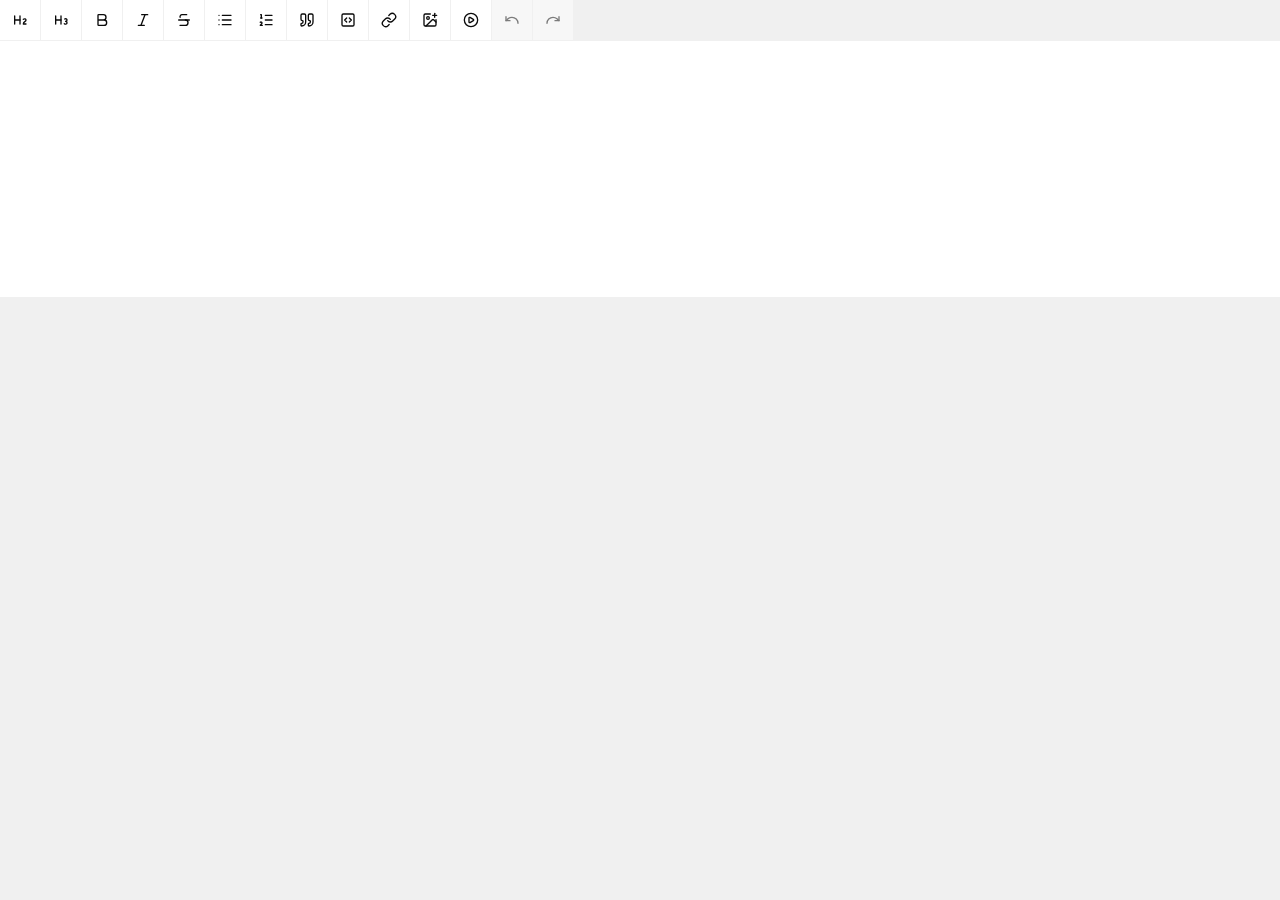
Test: RichEditor › 링크 다이얼로그는 http 가 아닌 주소를 거부한다
Click the button named "링크" at (389, 20), box [369, 0, 409, 40]
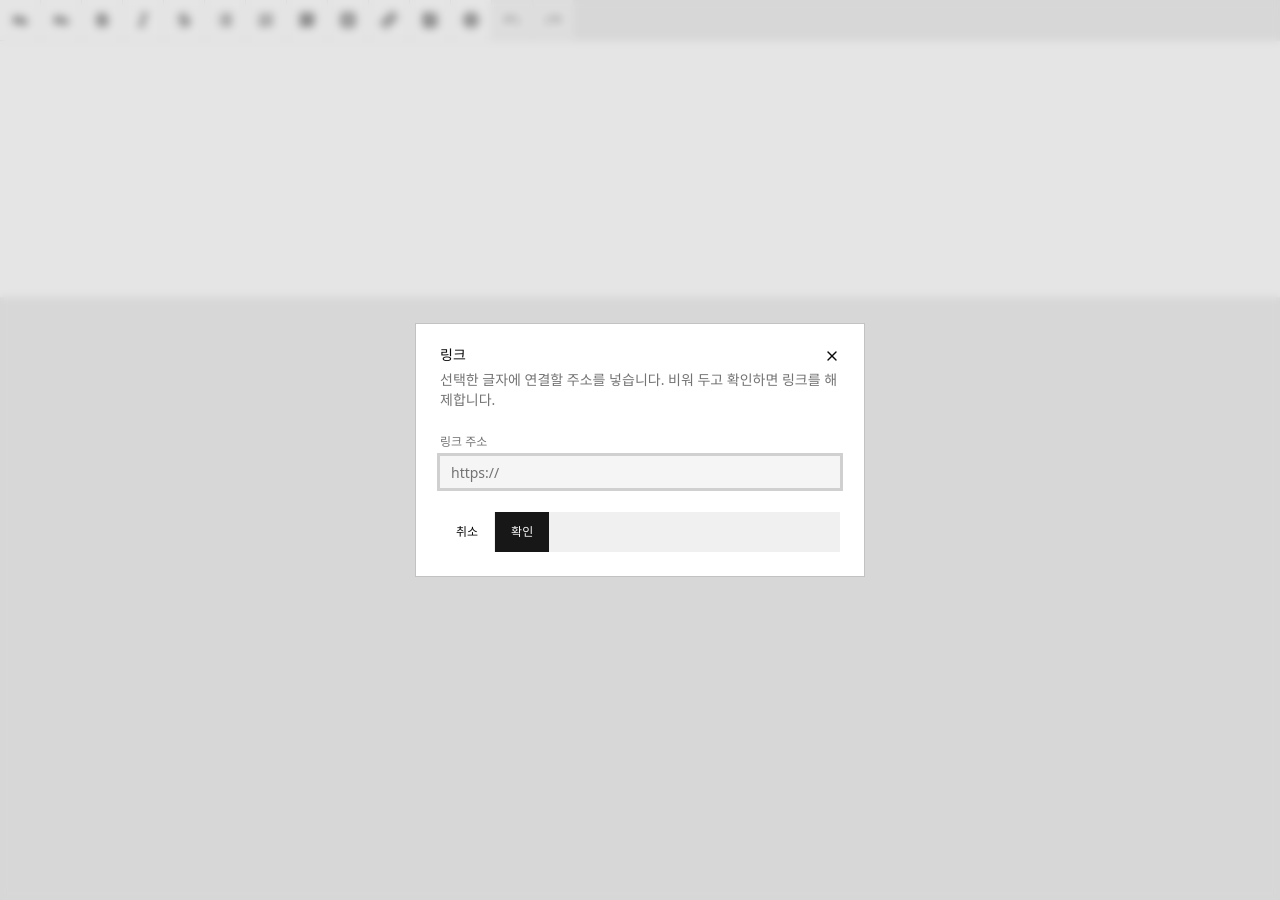
Type "javascript:alert(1)" into the field labelled "링크 주소" at (640, 472), box [440, 456, 840, 488]
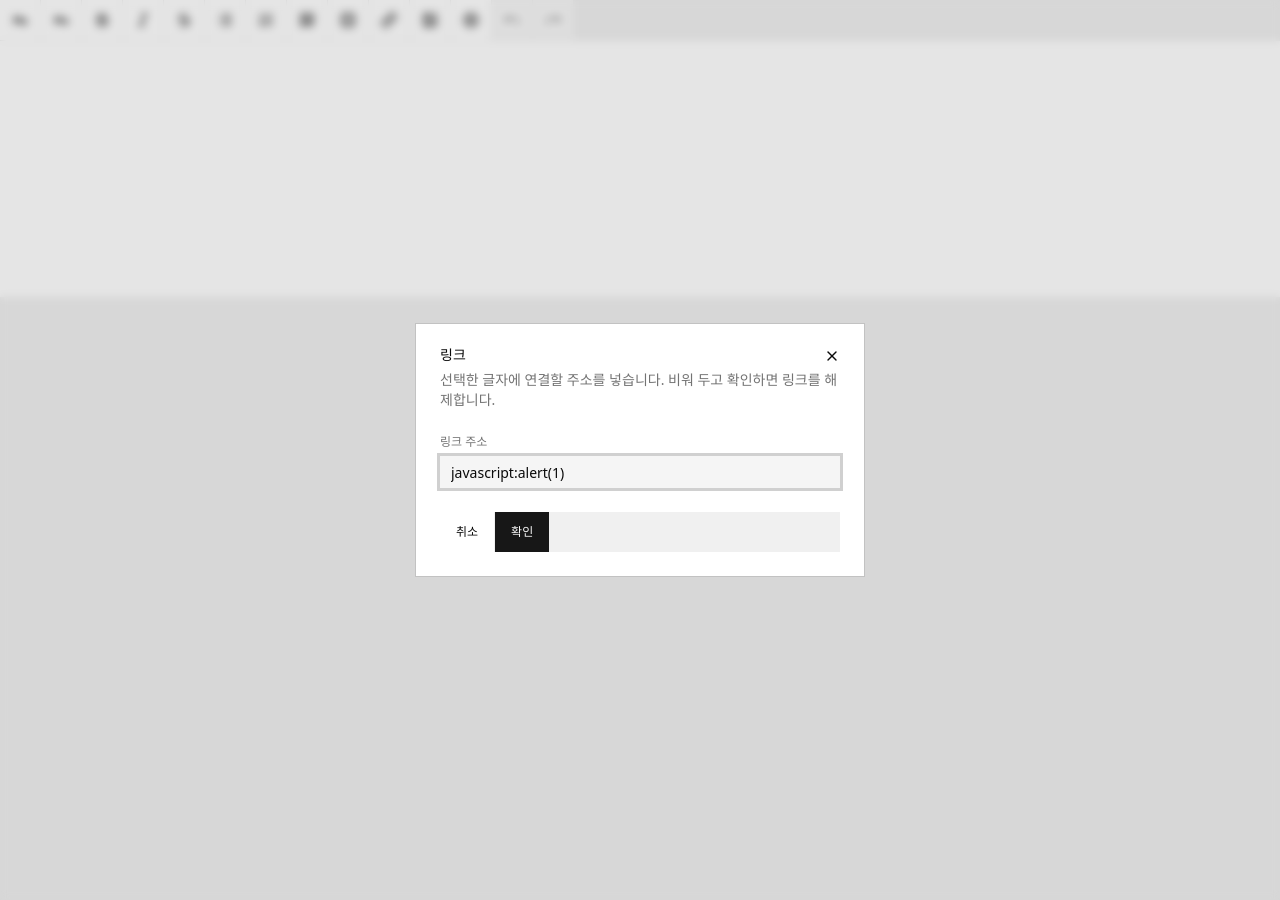
Click the button "확인" at (522, 532), box [495, 512, 549, 552]
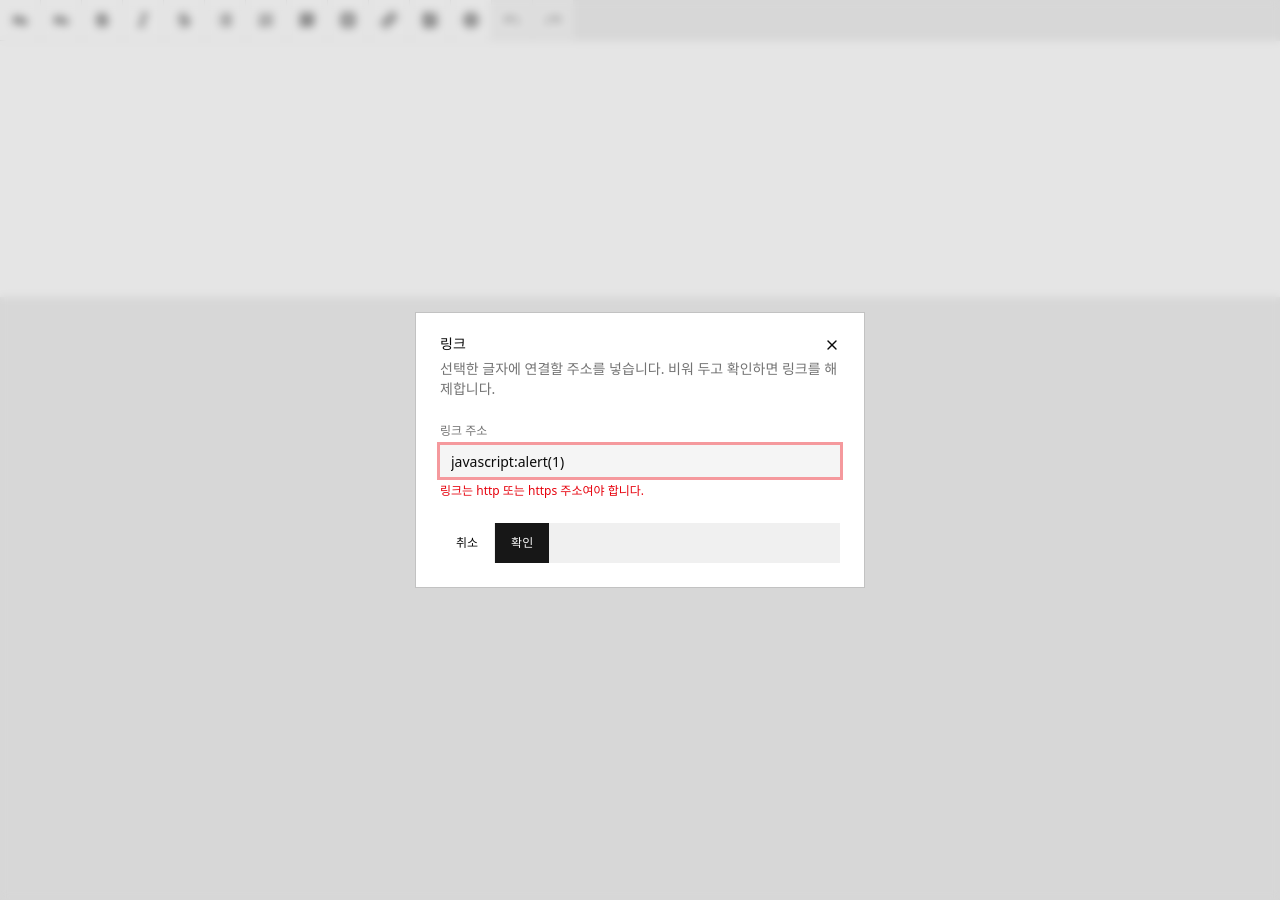
Expected: the text "링크는 http 또는 https 주소여야 합니다." is shown, [440, 482, 644, 499]
